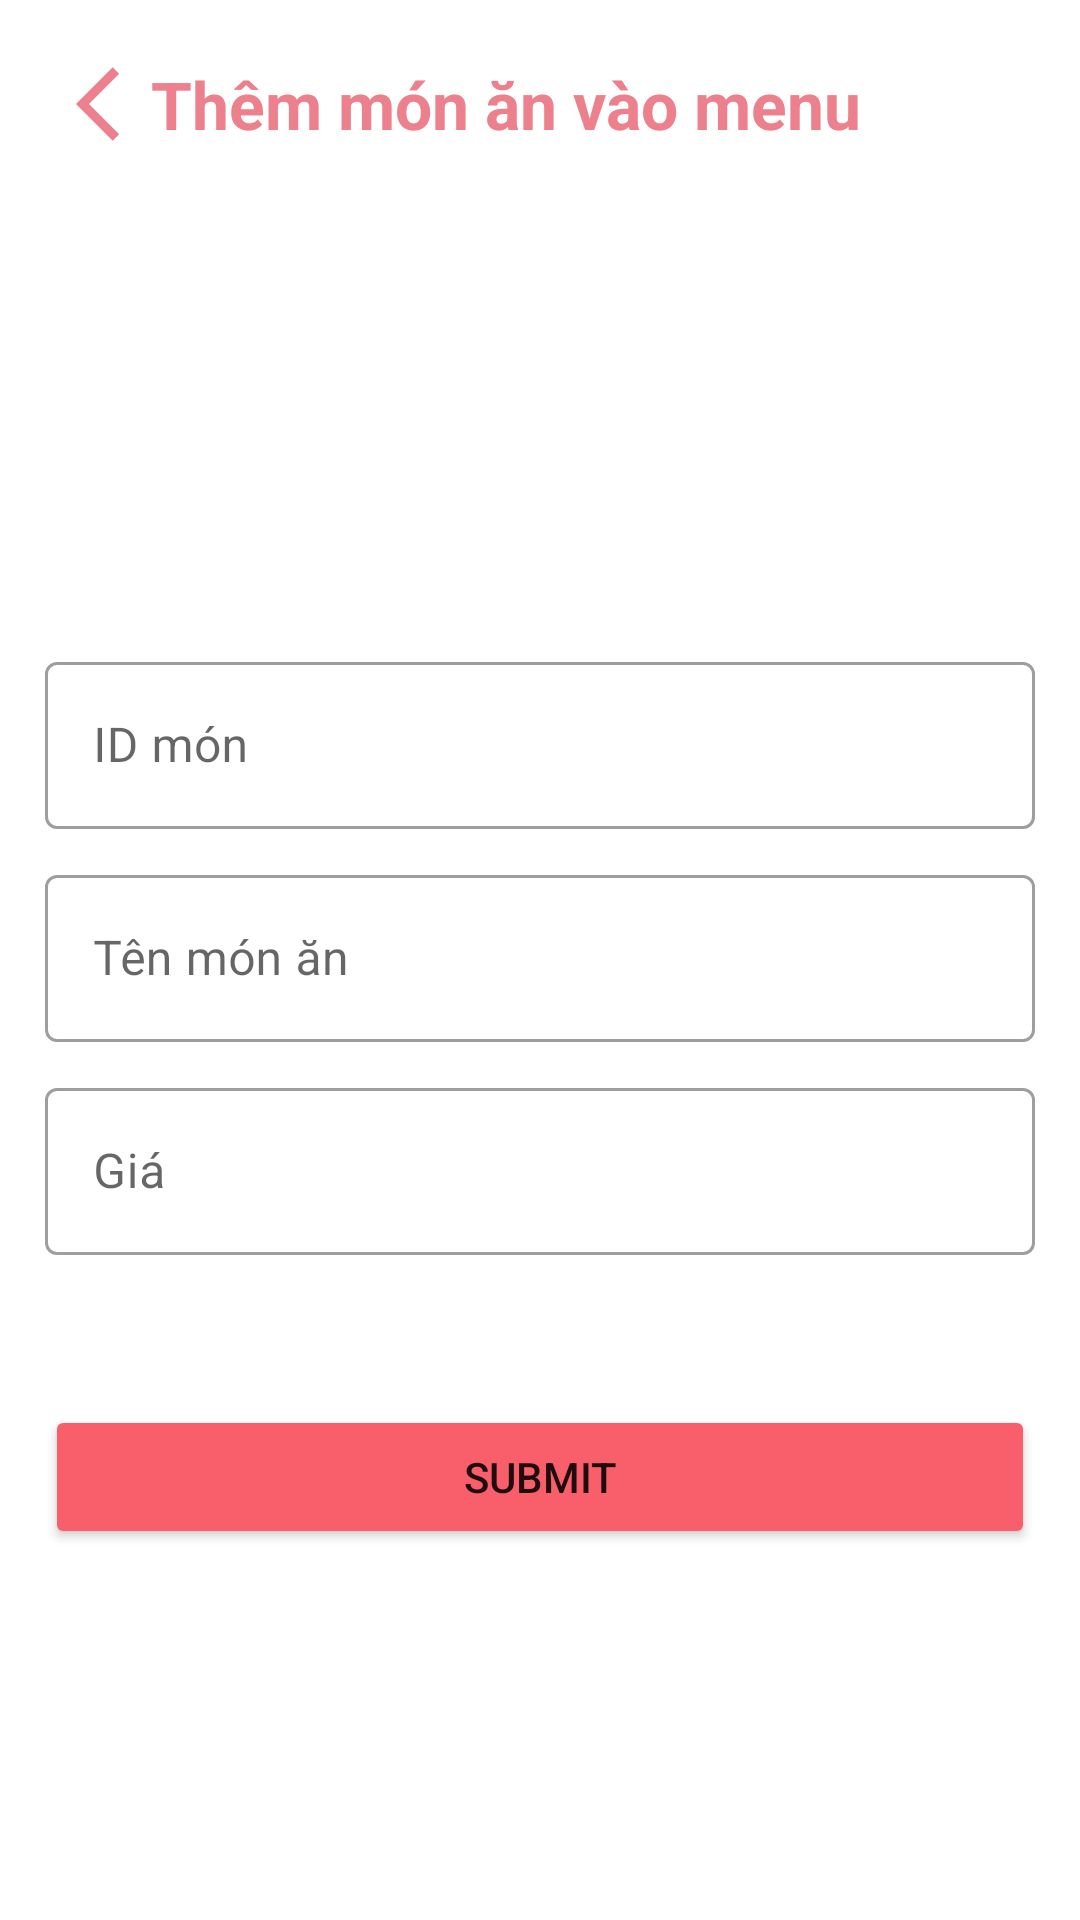

Locate icon controls on the screen. Image size 1080x1920, boxes as [x1,y1,x2,y2].
arrow back: [76,67,119,141]
